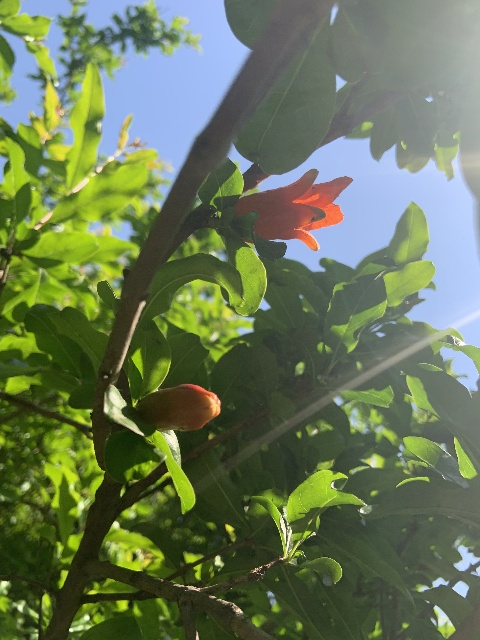bud: (139, 383, 220, 430)
flower: (233, 169, 353, 251)
